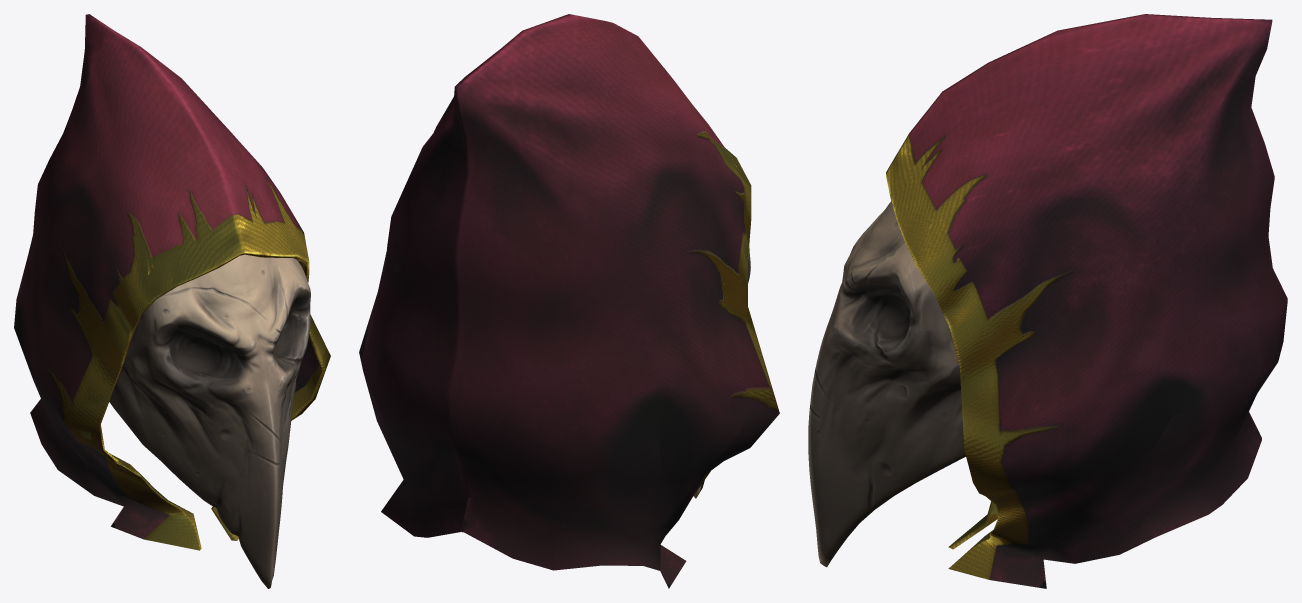
File: sm_dwarf_varnaic_helmet.gltf
3 renders of one model, left to right at view 1: azimuth 30°, elevation 25°; view 2: azimuth 150°, elevation 25°; view 3: azimuth 270°, elevation 25°, orthographic. The views are drawn at different scales.
Parts seen in each view (by area): view 1: sm_dwarf_varnaic_helmet; view 2: sm_dwarf_varnaic_helmet; view 3: sm_dwarf_varnaic_helmet.
Part boxes in pixels (<box>): sm_dwarf_varnaic_helmet: <box>14,14,330,588</box>; sm_dwarf_varnaic_helmet: <box>359,14,779,588</box>; sm_dwarf_varnaic_helmet: <box>808,14,1287,588</box>.
Bounding box in the file's own units: 34.77 × 55.6 × 43.8.
Materials: 1 (1 with a texture image).
